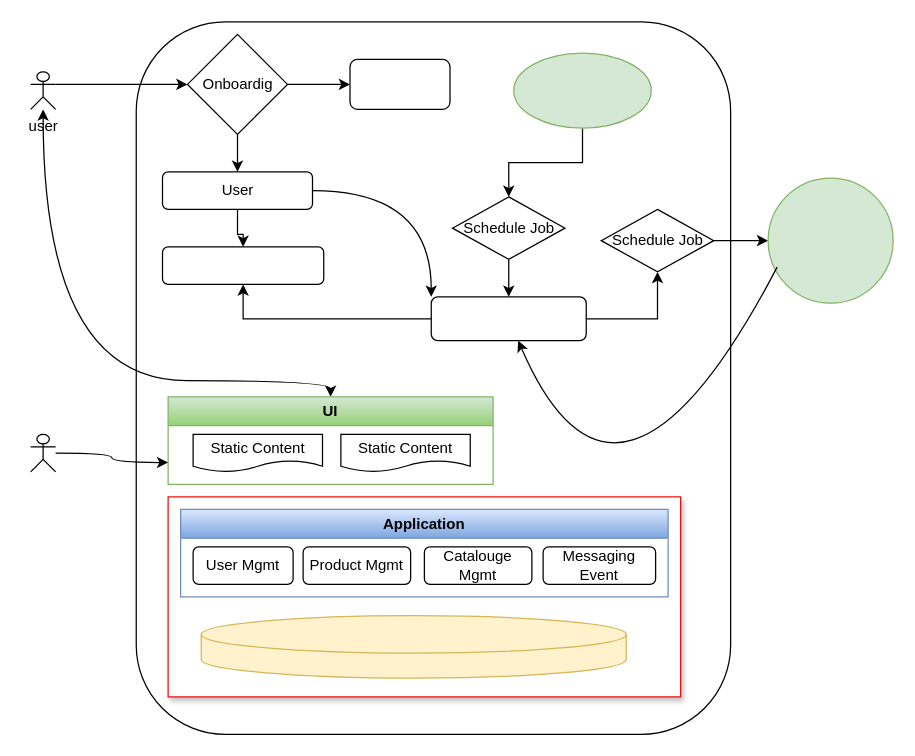
The diagram is 915 pixels wide and 756 high, and some of its shapes have lost their labels. The centre of each missing label's shape, as x and y in pixels:
3rd Party Destination: (830,240)
Admin: (42,452)
Approver Service: (399,83)
catalogue: (242,265)
DB: (413,646)
ONDC: (581,90)
Products: (508,318)
